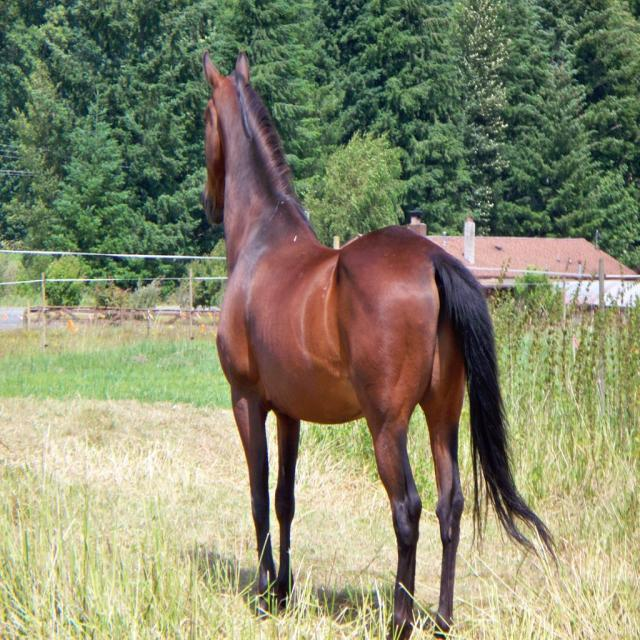Horse: (198, 53, 559, 640)
